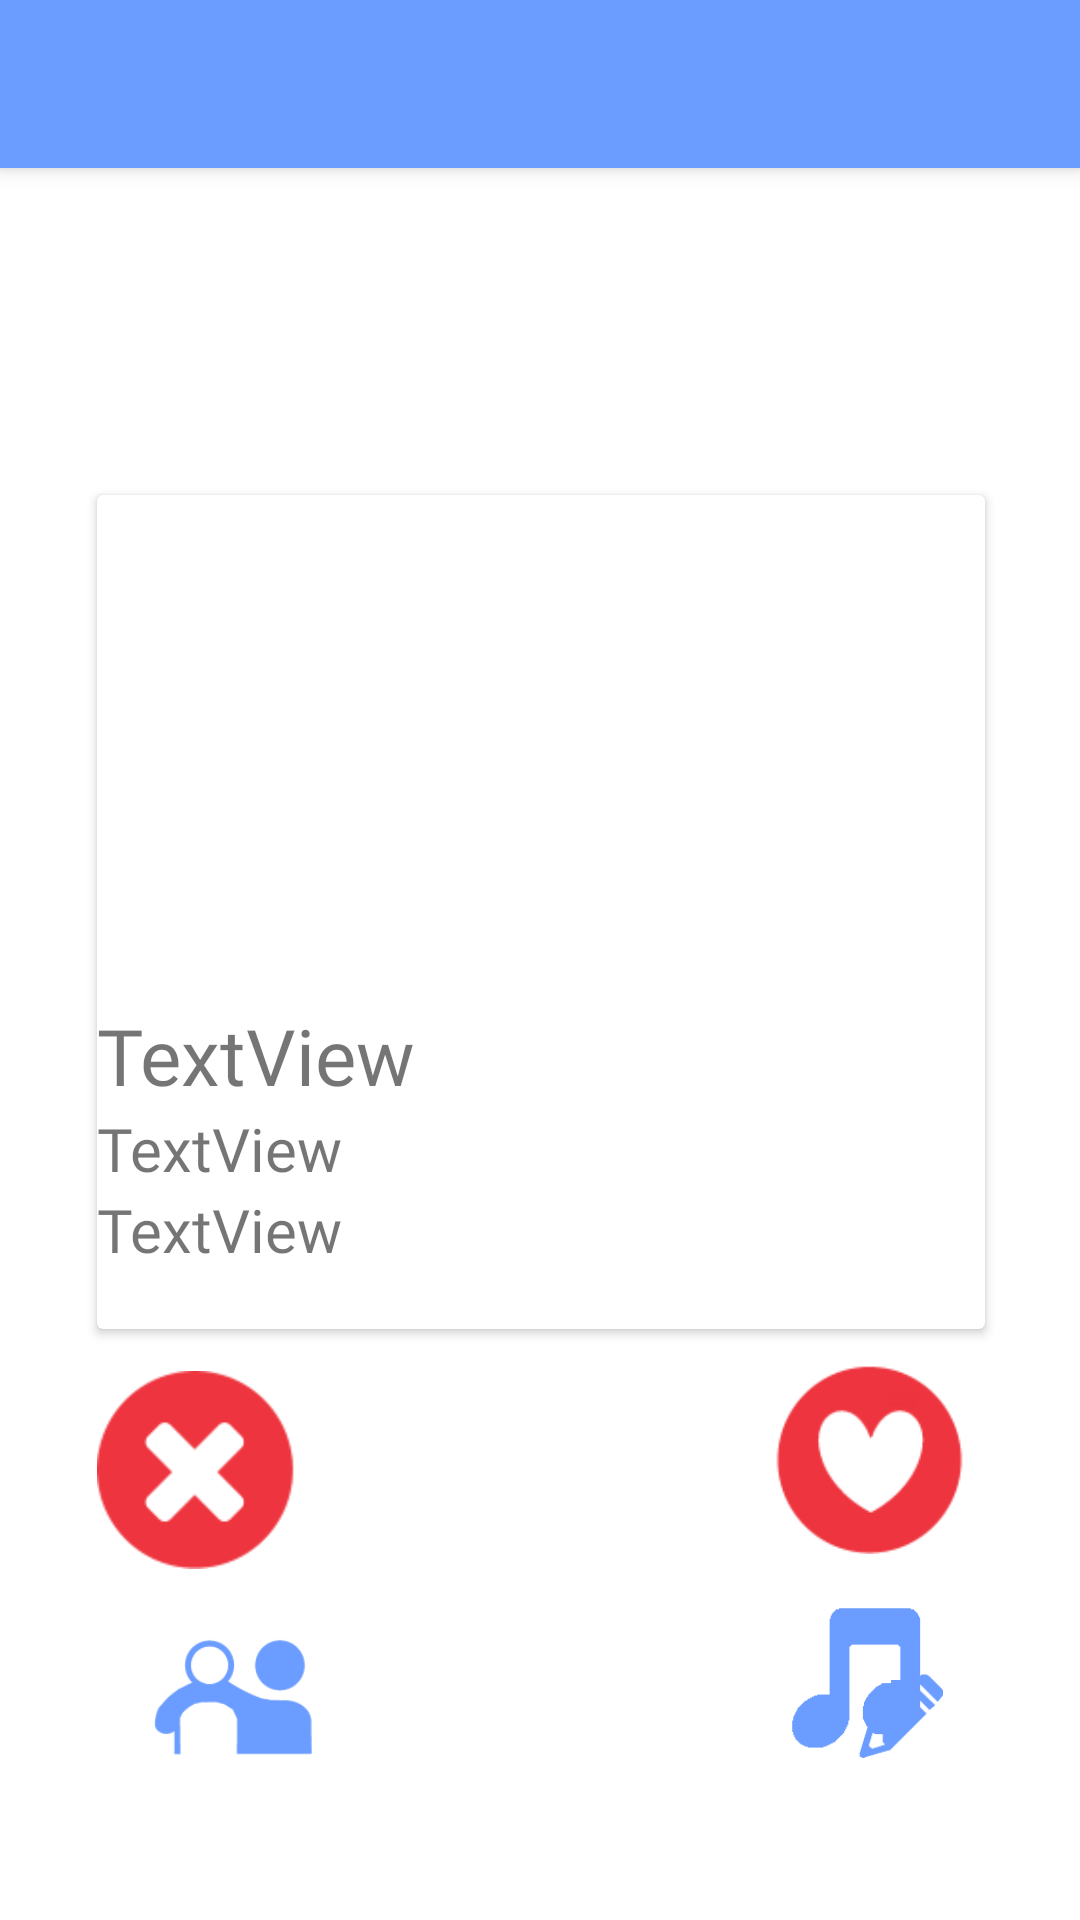

Locate icon controls on the screen. Image size 1080×1920, boxes as (x1, y1, x2, y2).
amigosredimension: (154, 1640, 312, 1755)
like: (776, 1366, 963, 1554)
